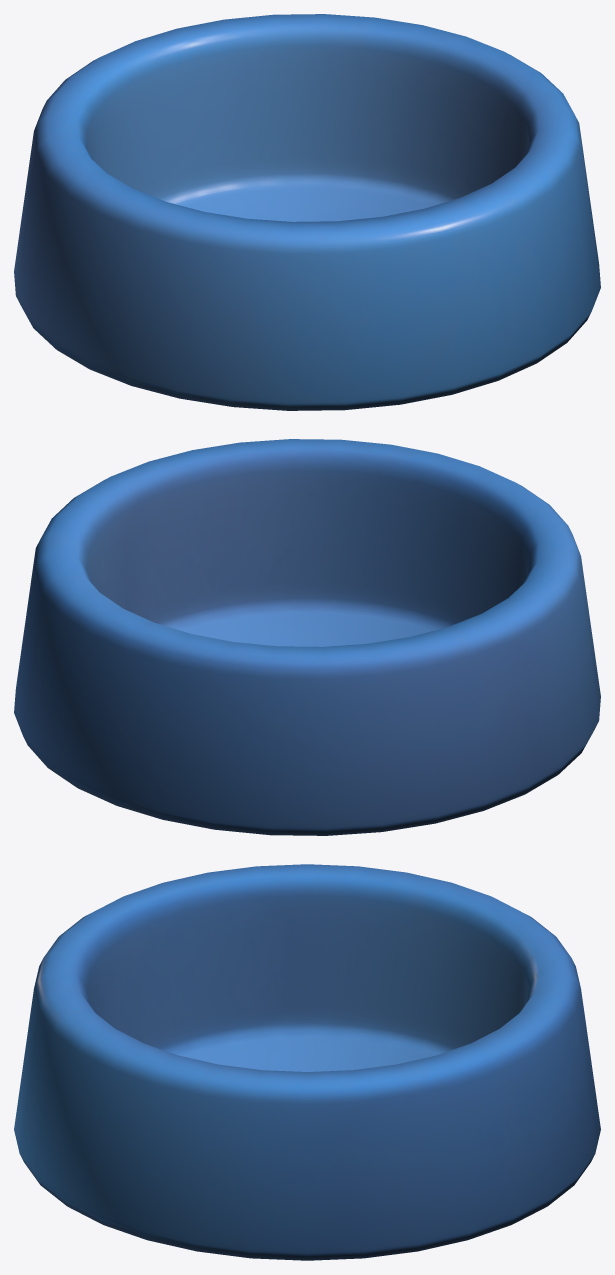
Rendered from bowl.fbx.
3 renders of one model, top to bottom at view 1: azimuth 30°, elevation 25°; view 2: azimuth 150°, elevation 25°; view 3: azimuth 270°, elevation 25°, orthographic.
Parts seen in each view (by area): view 1: bowl_low; view 2: bowl_low; view 3: bowl_low.
Boxes of the visible parts, x1,y1,x2,y2 form: bowl_low: (14, 14, 600, 410); bowl_low: (14, 439, 600, 835); bowl_low: (14, 864, 600, 1260).
Size of the model in its own units: 55 by 17 by 55.
Materials: 1 (1 with a texture image).
